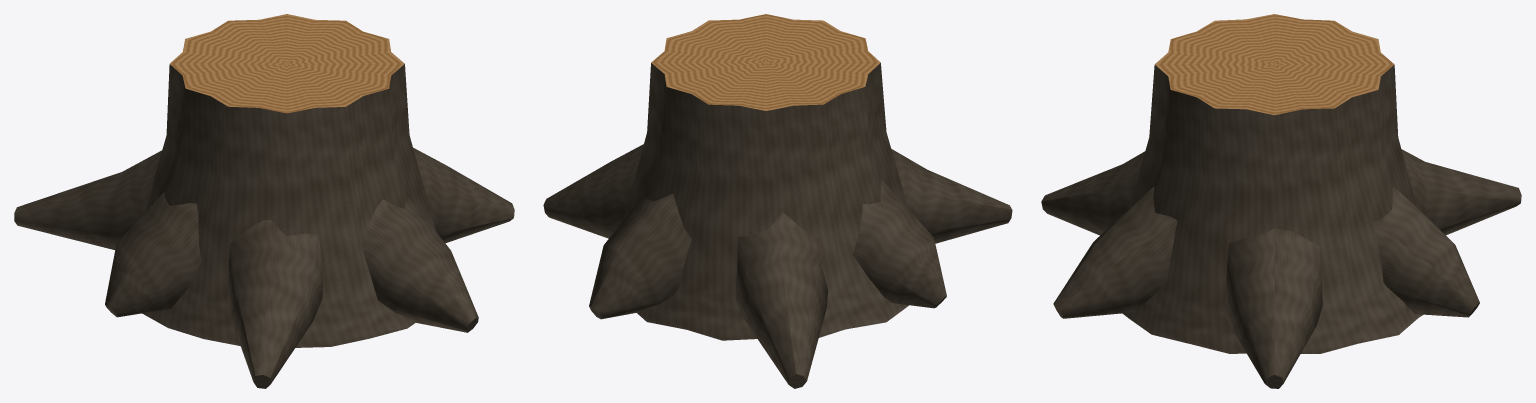
File: SS_Stump_01_LOD0.fbx
The picture shows the model from 3 angles, left to right: view 1: azimuth 30°, elevation 25°; view 2: azimuth 150°, elevation 25°; view 3: azimuth 270°, elevation 25°; orthographic projection. The views are drawn at different scales.
Visible parts, largest first — view 1: SS_Stump_01_LOD0_Mesh; view 2: SS_Stump_01_LOD0_Mesh; view 3: SS_Stump_01_LOD0_Mesh.
Part boxes in pixels (<box>): SS_Stump_01_LOD0_Mesh: <box>14,14,514,388</box>; SS_Stump_01_LOD0_Mesh: <box>543,14,1012,388</box>; SS_Stump_01_LOD0_Mesh: <box>1041,14,1521,388</box>.
Bounding box in the file's own units: 89.56 × 45.02 × 89.81.
